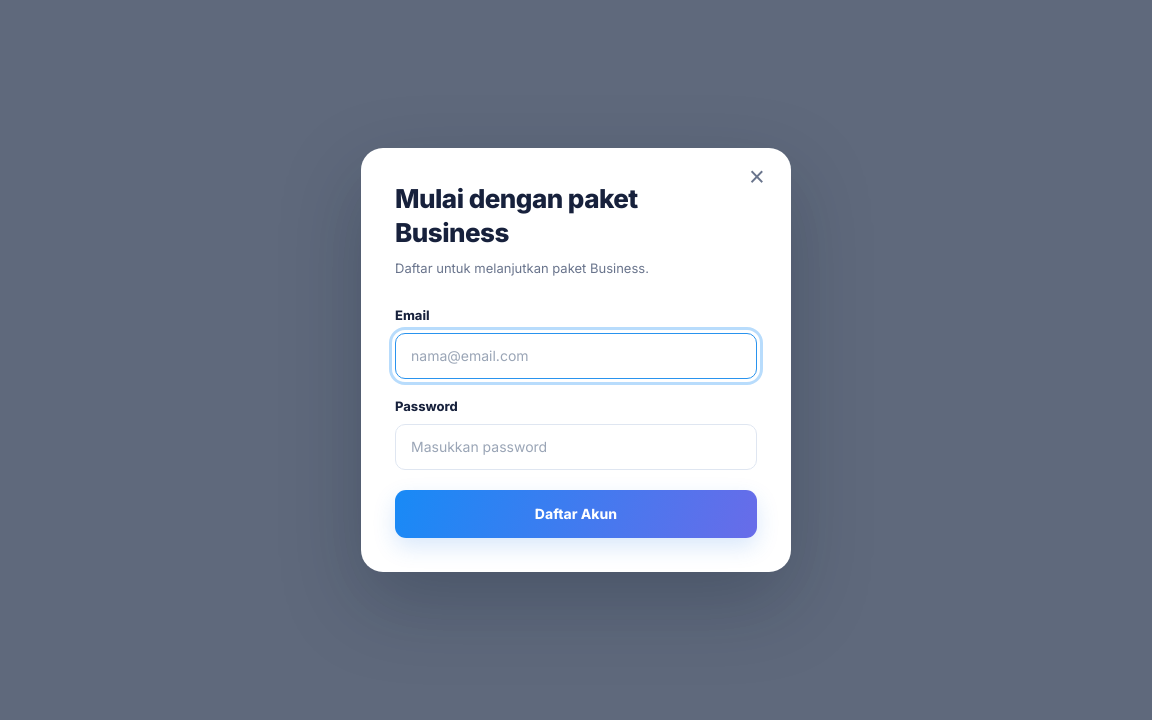
it: LoginModal › should show registration success for a selected plan
Expected: the heading "Mulai dengan paket Business" is shown, [395,183,638,248]
Type "test@example.com" into the field labelled "Email" at (576,356), box [395,333,757,379]
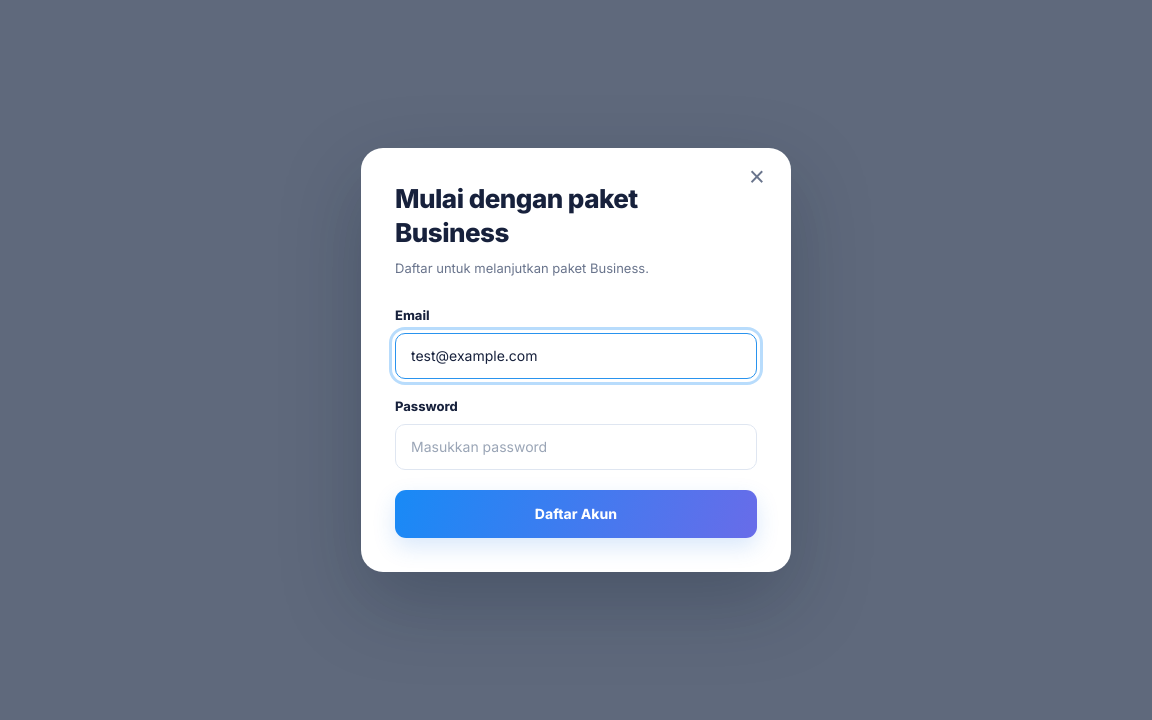
Type "password123" into the password field labelled "Password" at (576,447), box [395,424,757,470]
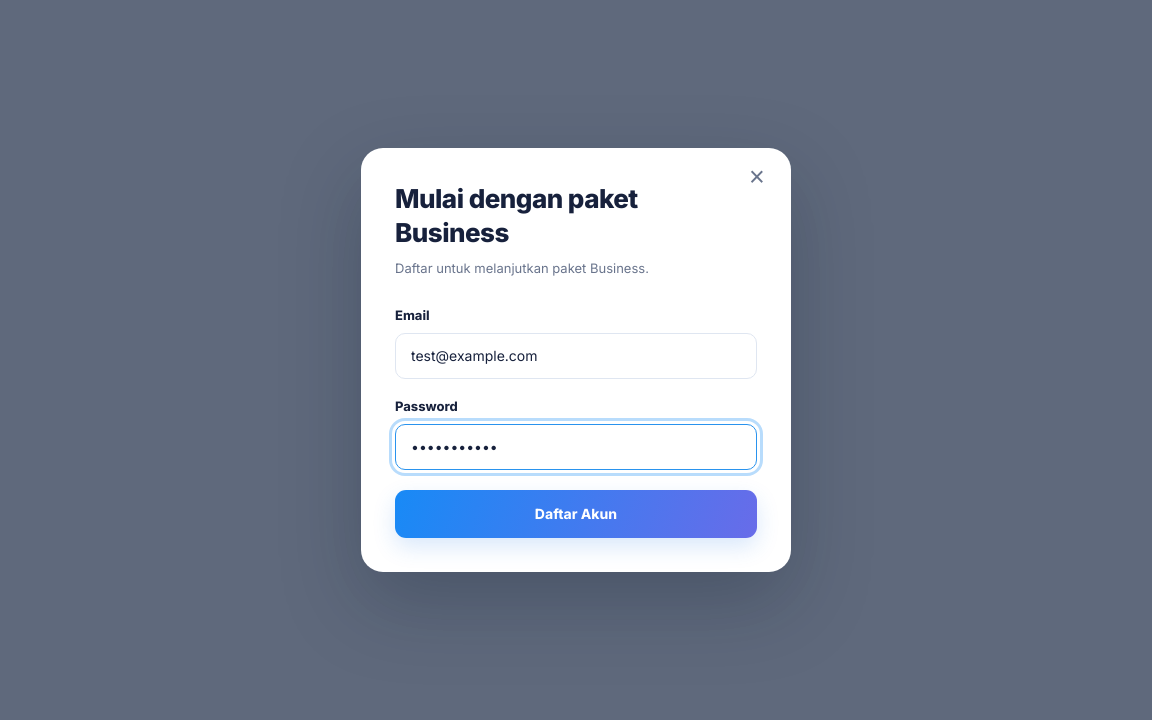
Click the button "Daftar Akun" at (576,514), box [395,490,757,538]
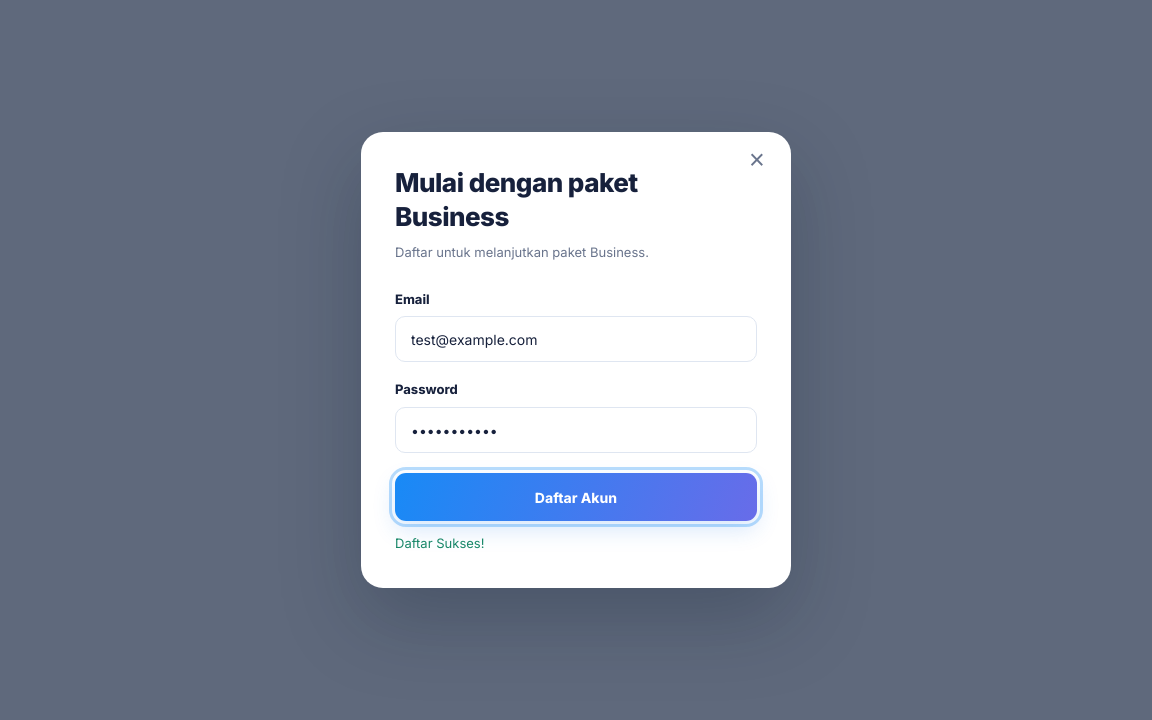
Now the message reads "Daftar Sukses!", box [395,535,484,551]
